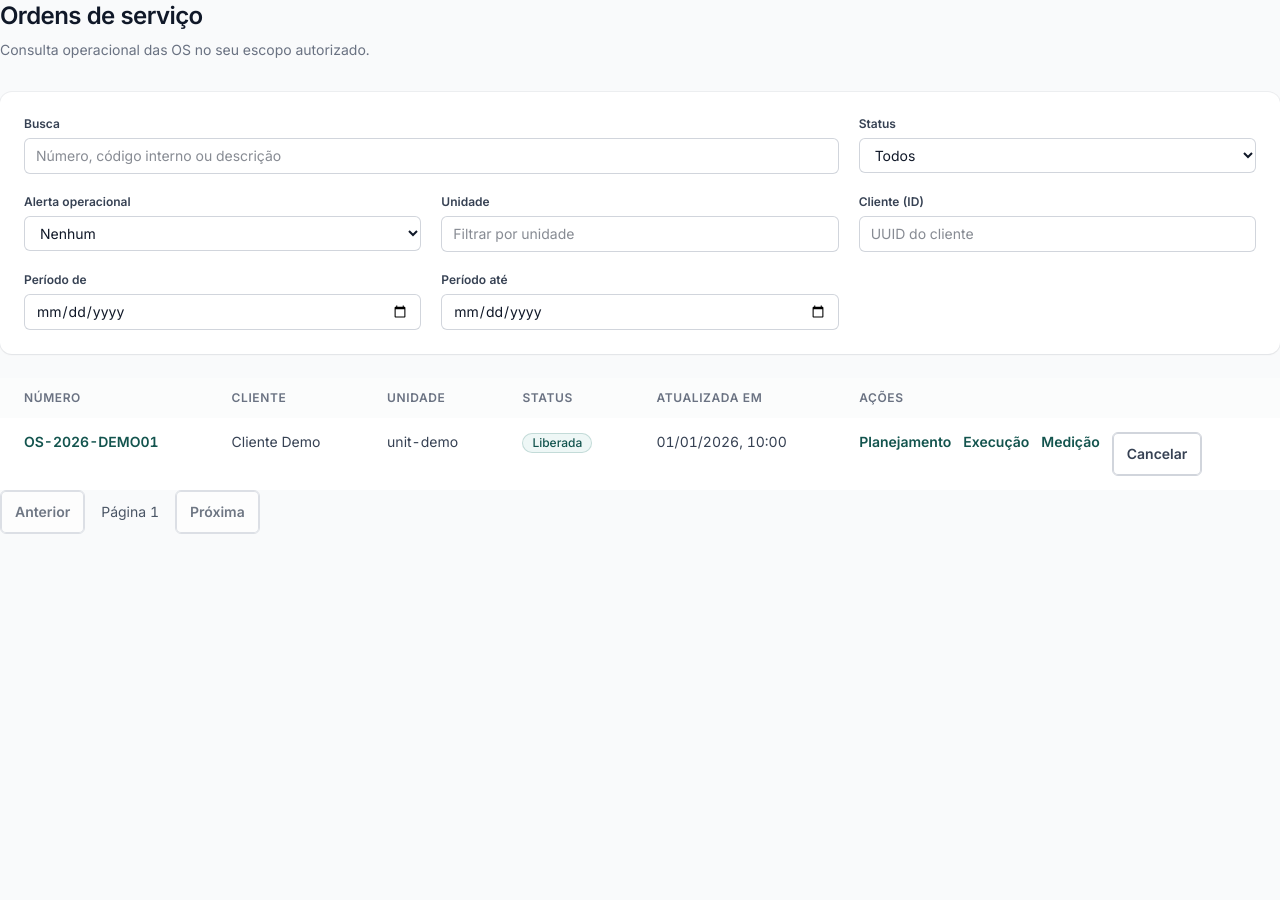
Test: ServiceOrdersListPage › cancels an order only after a cancellation reason is informed
Click the button "Cancelar" at (1157,454), box left=1112, top=432, right=1202, bottom=476
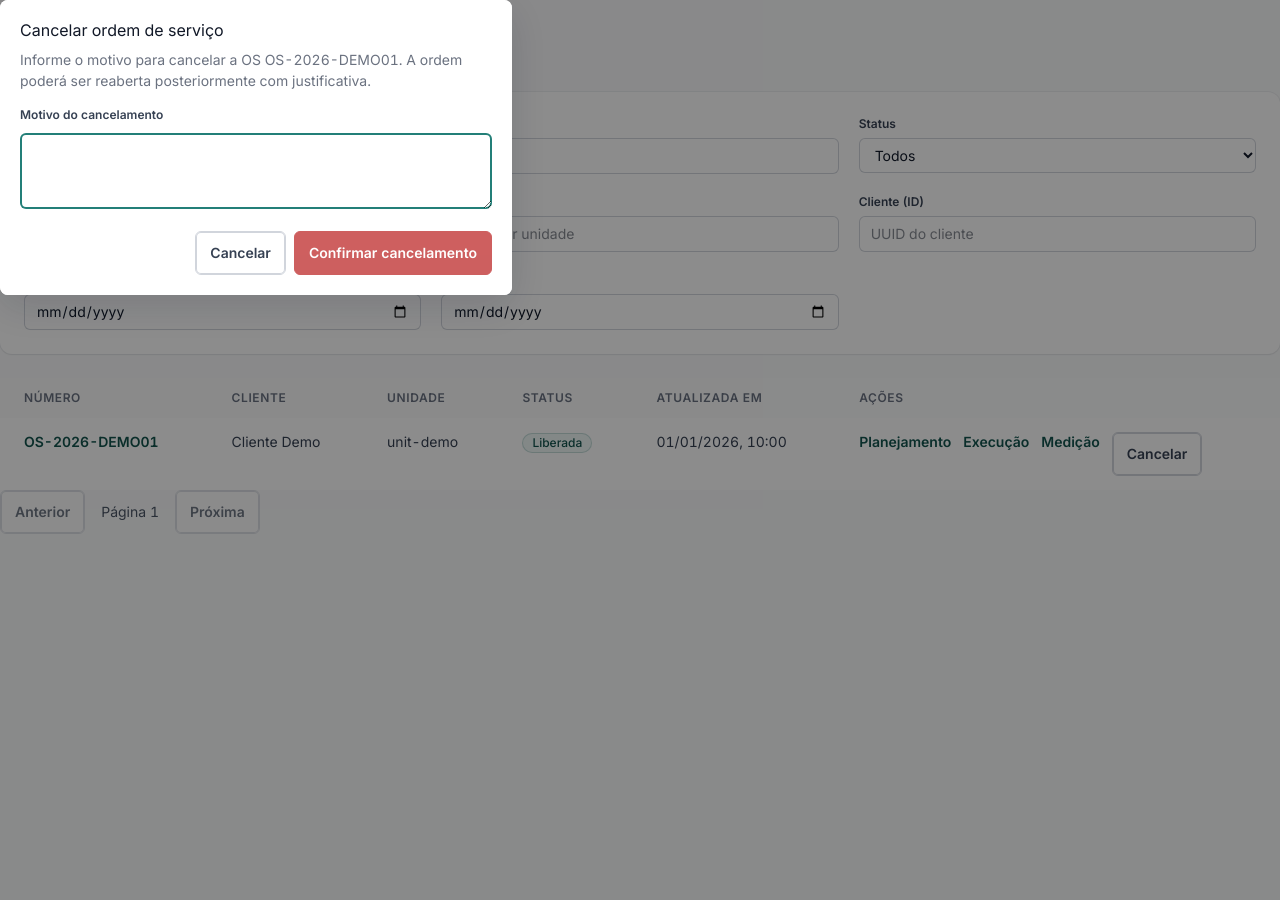
Check: the button "Confirmar cancelamento" is disabled, box left=294, top=231, right=492, bottom=275
Check: the text box labelled "Motivo do cancelamento" is shown
Type "Cliente encerrou a demanda" into the text box labelled "Motivo do cancelamento" at (256,171), box left=20, top=133, right=492, bottom=209
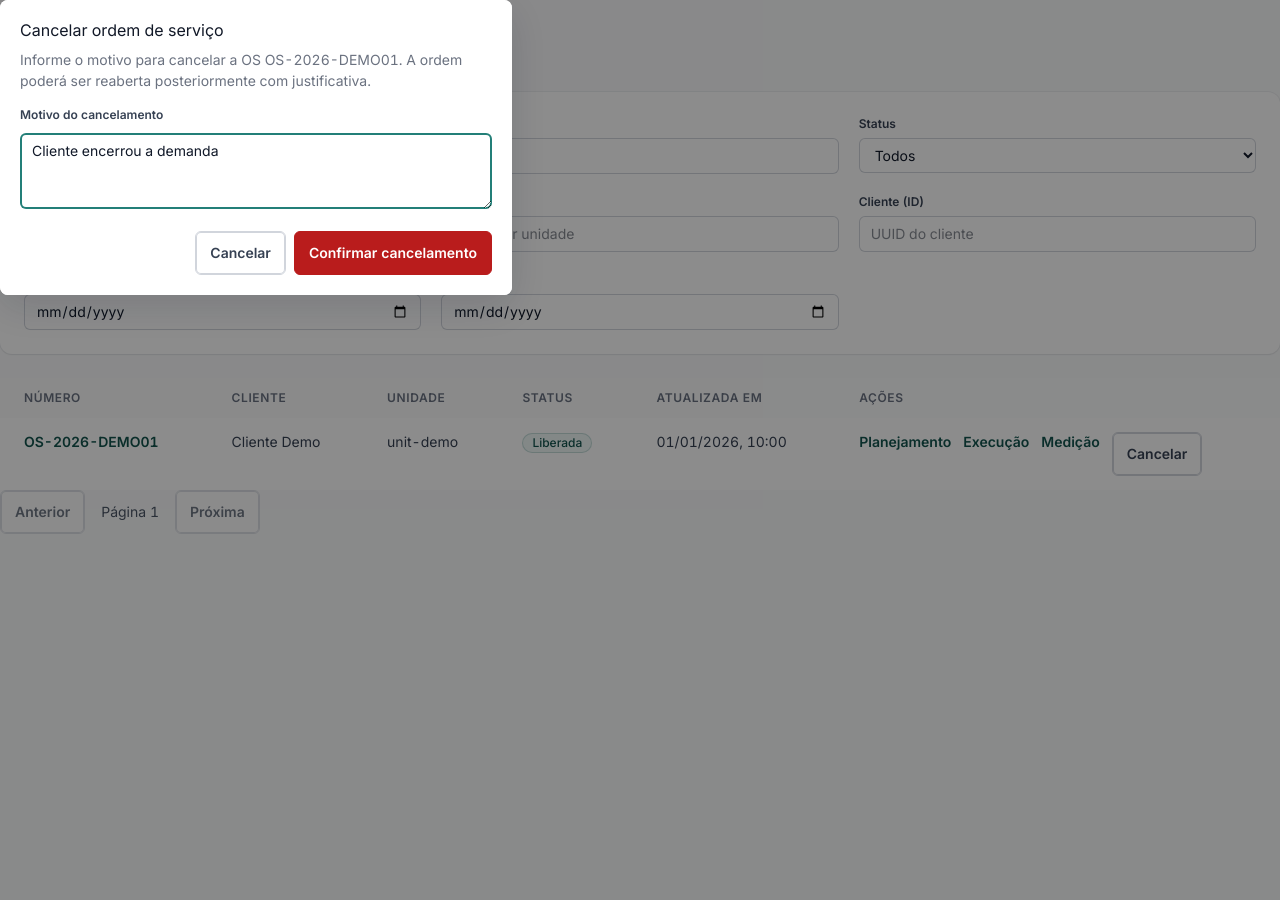
Check: the button "Confirmar cancelamento" is enabled
Click the button "Confirmar cancelamento" at (393,253), box left=294, top=231, right=492, bottom=275
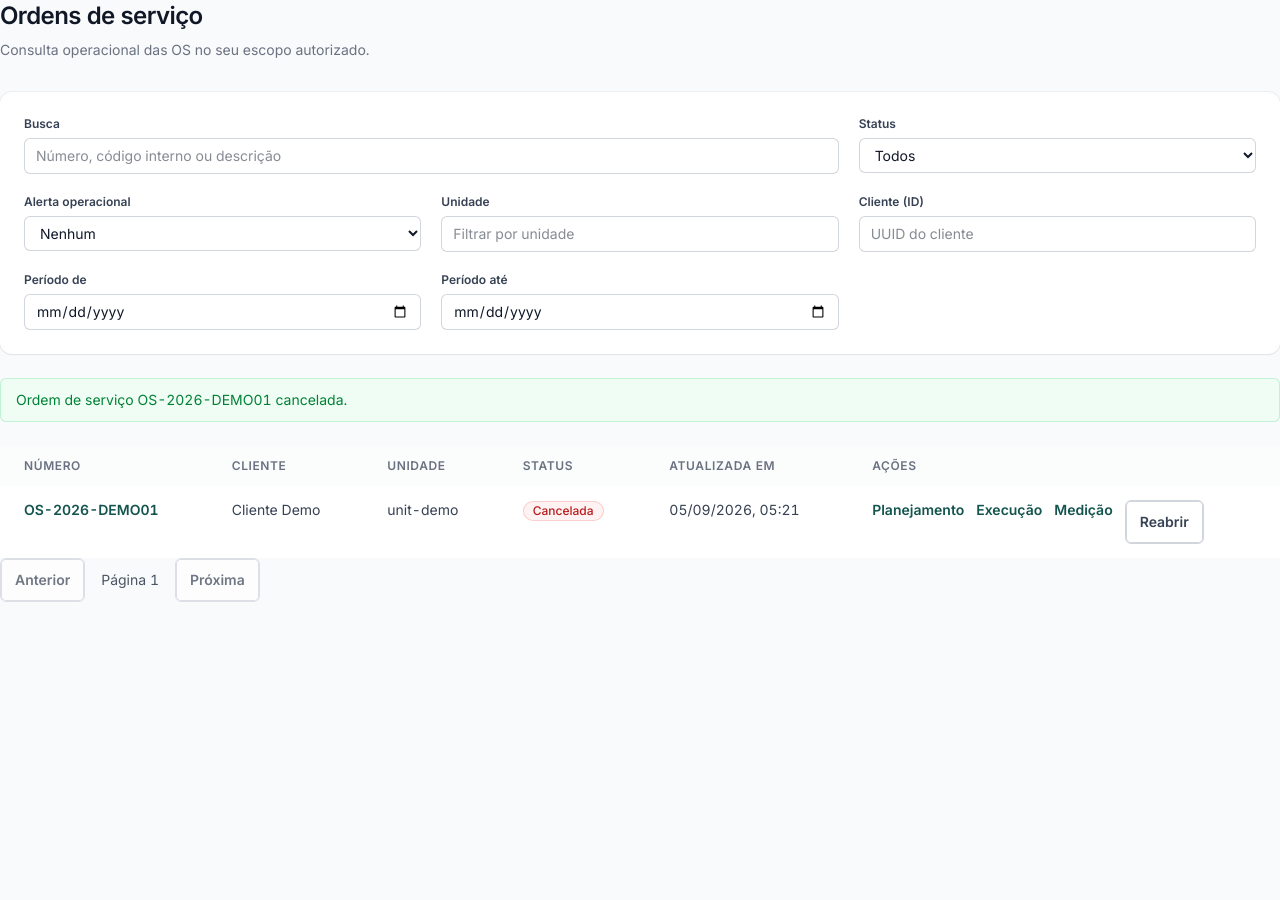
Check: the text named "Status: Cancelada" is shown, box left=523, top=501, right=604, bottom=521
